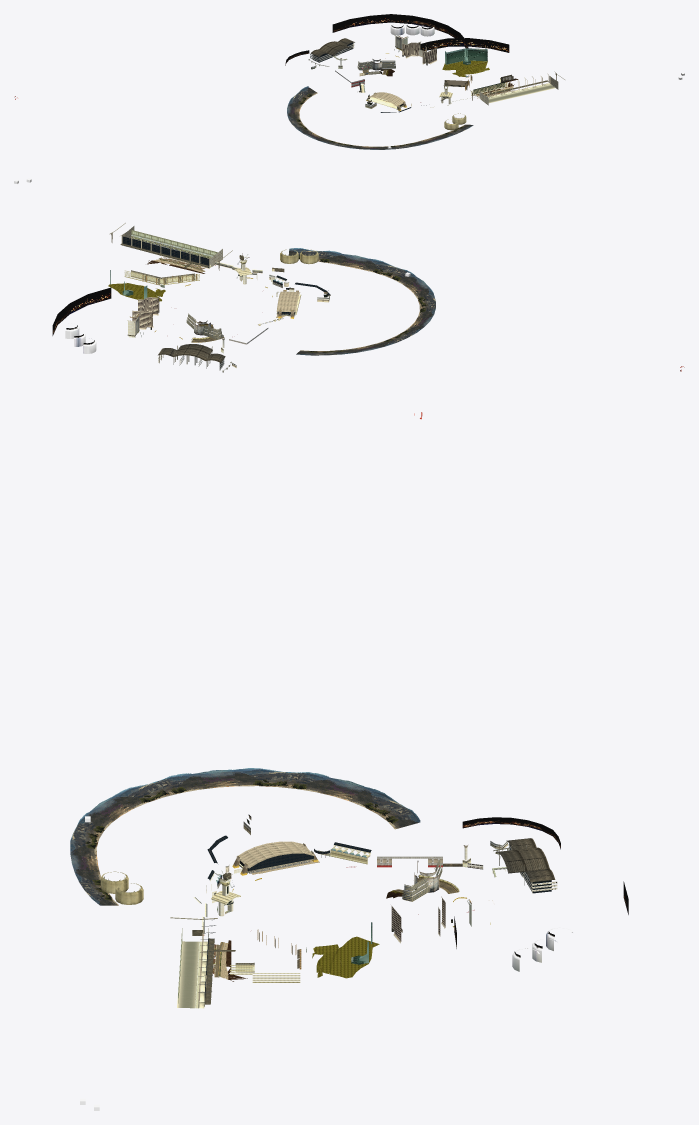
File: track-B2_C2_V1_env.glb
3 views of the same model, one above another, from view 1: azimuth 30°, elevation 25°; view 2: azimuth 150°, elevation 25°; view 3: azimuth 270°, elevation 25° (orthographic). The views are drawn at different scales.
Parts seen in each view (by area): view 1: B2_C2_V1_env; view 2: B2_C2_V1_env; view 3: B2_C2_V1_env.
Boxes of the visible parts, x1,y1,x2,y2 form: B2_C2_V1_env: (14, 14, 684, 149); B2_C2_V1_env: (14, 178, 684, 372); B2_C2_V1_env: (70, 412, 628, 1110).
Size of the model in its own units: 4799 by 508 by 1968.
Materials: 90 (89 with a texture image).
